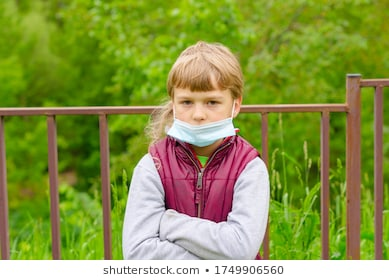mask_weared_incorrect: (175, 94, 229, 145)
